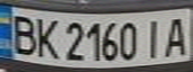0: (118, 18, 142, 61)
1: (81, 19, 103, 62)
2: (60, 18, 84, 62)
6: (100, 19, 121, 62)
A: (160, 14, 193, 58)
B: (6, 11, 39, 56)
I: (139, 16, 169, 60)
K: (30, 15, 60, 60)
